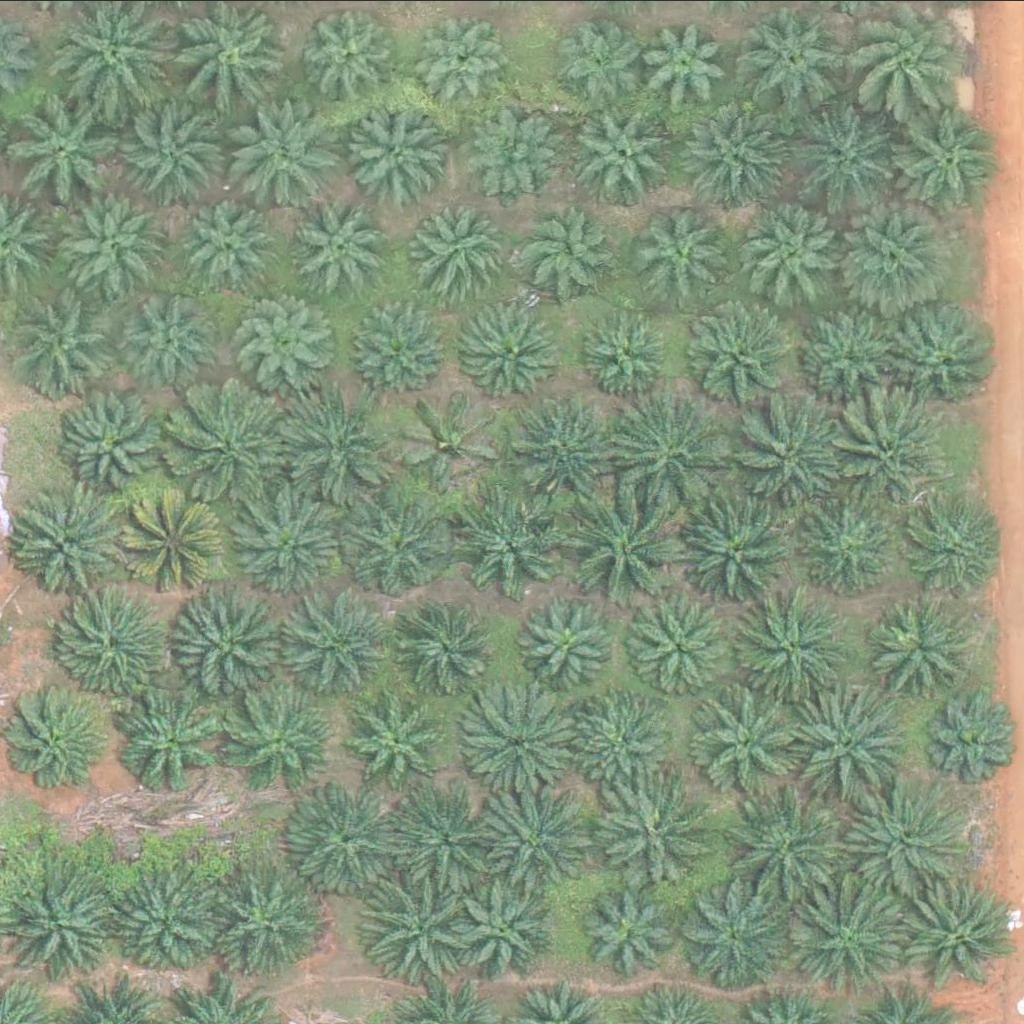Kelapa_Sawit: (677, 493, 791, 606), (461, 686, 575, 799), (477, 777, 591, 890), (854, 783, 968, 896), (794, 886, 908, 999), (104, 860, 218, 973), (9, 869, 123, 982), (117, 94, 230, 207), (686, 100, 799, 213), (787, 100, 900, 213), (894, 104, 1007, 217), (731, 399, 844, 512), (502, 396, 615, 509), (282, 392, 395, 505), (170, 388, 283, 501), (571, 494, 684, 607), (177, 585, 290, 698), (735, 591, 848, 704), (119, 683, 232, 796), (696, 681, 809, 794), (595, 772, 708, 885), (13, 91, 126, 204), (58, 389, 171, 502), (234, 96, 348, 208), (616, 397, 730, 509), (224, 681, 338, 793), (678, 880, 792, 992), (173, 2, 286, 114), (738, 5, 851, 117), (842, 196, 955, 308), (888, 302, 1001, 414), (836, 397, 949, 509), (450, 489, 563, 601), (872, 590, 985, 702), (793, 680, 906, 792), (299, 780, 412, 892), (728, 791, 841, 903), (905, 875, 1018, 987), (207, 869, 320, 981), (355, 869, 468, 981), (46, 184, 159, 296), (9, 290, 122, 402), (15, 487, 128, 599), (59, 597, 172, 709), (295, 1, 396, 101), (350, 101, 451, 201), (579, 97, 680, 197), (292, 196, 393, 296), (412, 204, 513, 304), (512, 199, 613, 299), (744, 203, 845, 303), (347, 298, 448, 398), (463, 301, 564, 401), (689, 302, 790, 402), (236, 500, 337, 600), (348, 498, 449, 598), (801, 494, 902, 594), (910, 497, 1011, 597), (293, 592, 394, 692), (633, 597, 734, 697), (348, 691, 449, 791), (583, 880, 684, 980), (453, 879, 554, 979), (462, 105, 562, 205), (242, 295, 342, 395), (791, 301, 891, 401), (398, 389, 498, 489), (130, 494, 230, 594), (407, 600, 507, 700), (580, 689, 680, 789), (396, 789, 496, 889), (527, 599, 616, 687), (588, 311, 676, 399), (416, 16, 504, 103), (557, 16, 645, 103), (645, 19, 733, 106), (187, 197, 275, 284), (640, 208, 728, 295), (132, 295, 220, 382), (934, 697, 1022, 784)
